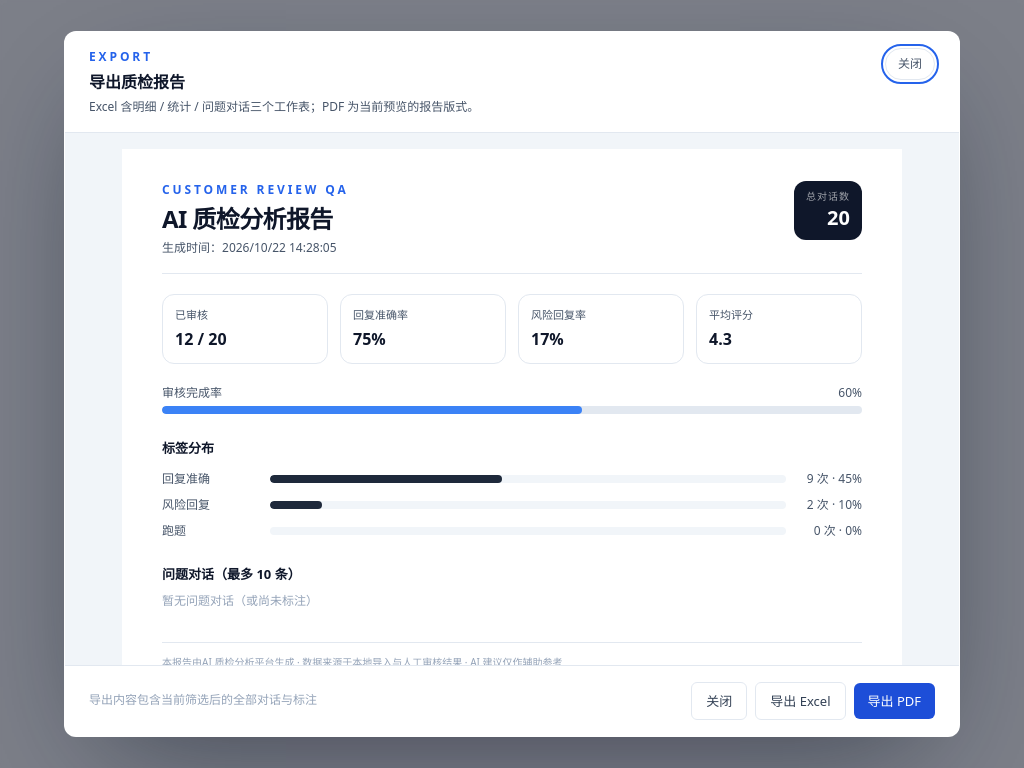
Test: ExportReportPanel Excel 导出 › Excel 导出抛 Error → 展示 error.message 且不出现成功提示
Click the button "导出 Excel". click: (800, 701)
box: [755,682,846,720]
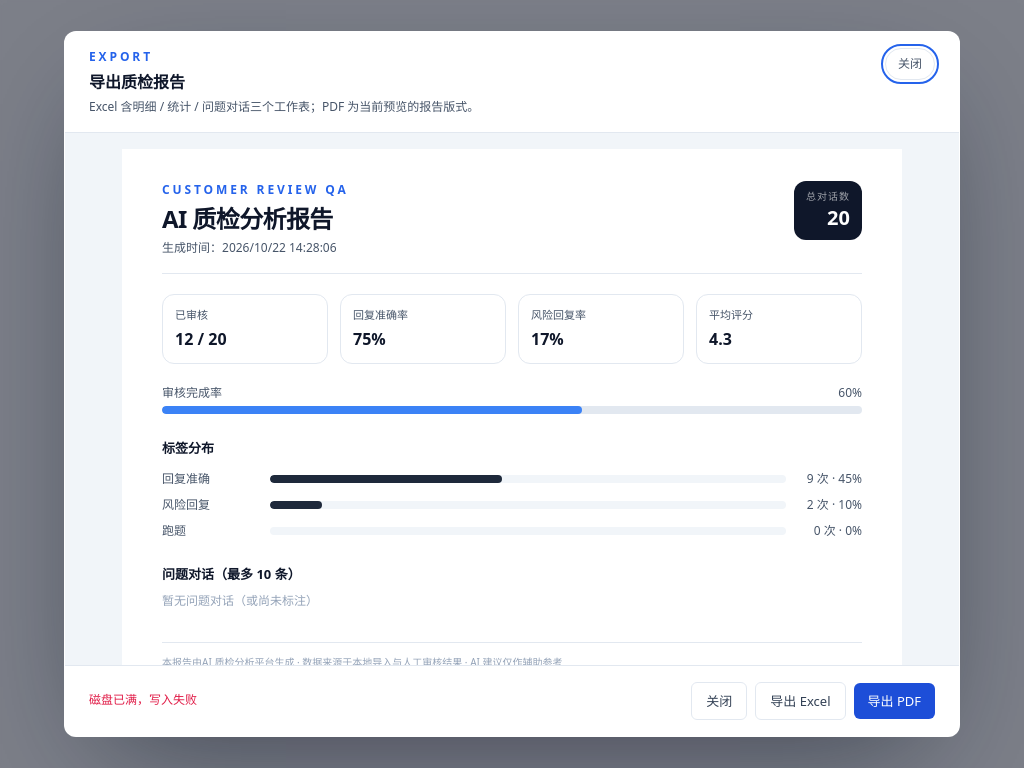
expect the text "磁盘已满，写入失败" is shown: met, box [89,691,197,708]
